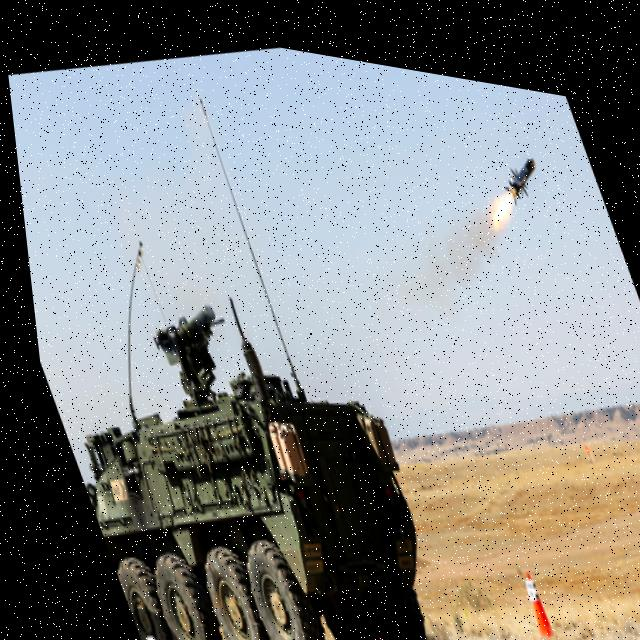MIL_APC: (28, 286, 470, 640)
